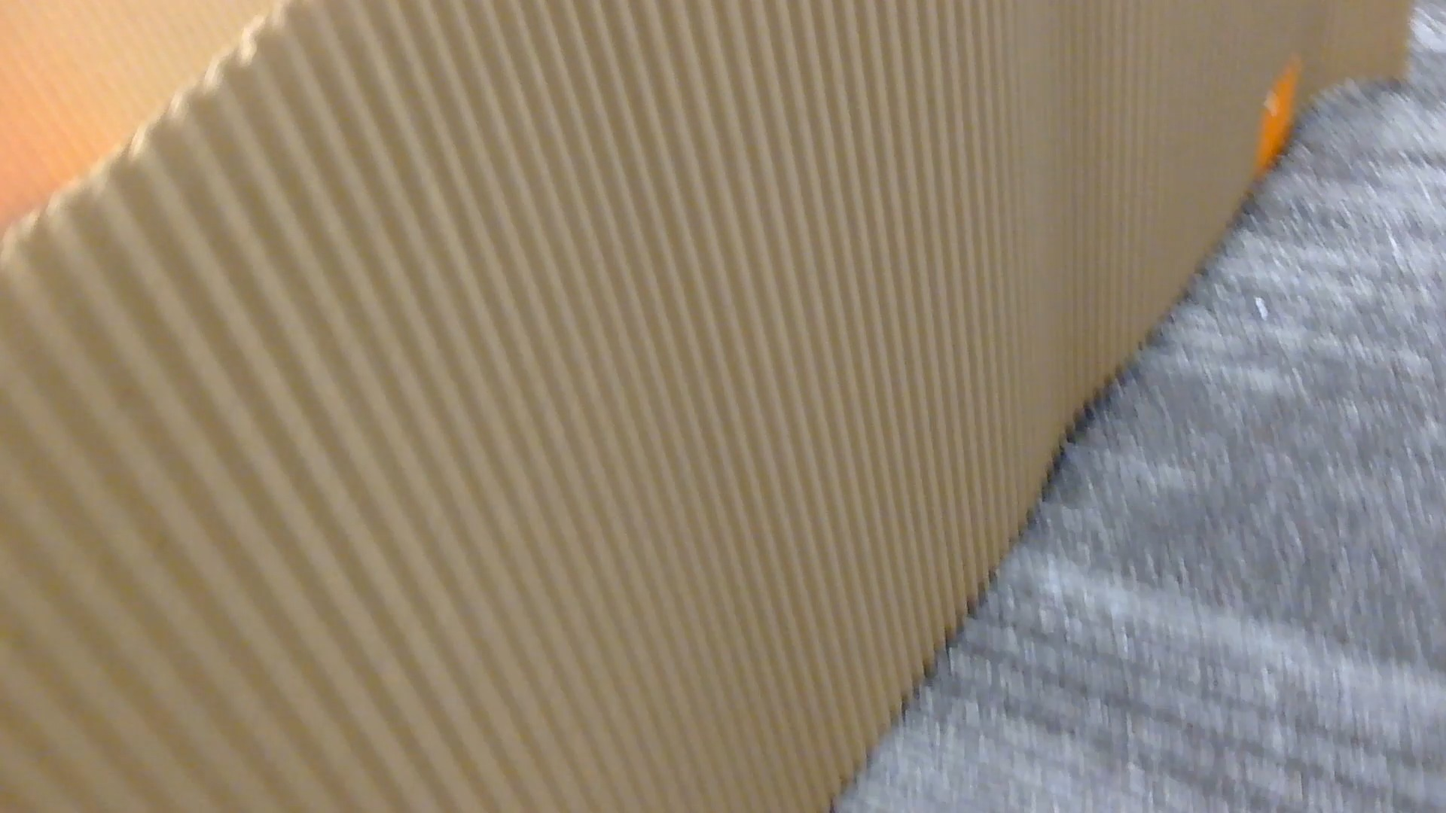Ramp: (0, 0, 1412, 812)
